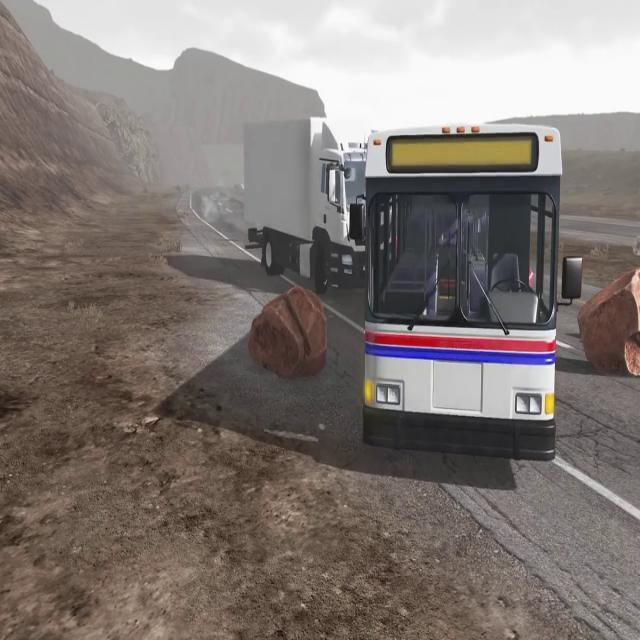accident: (234, 101, 571, 458)
